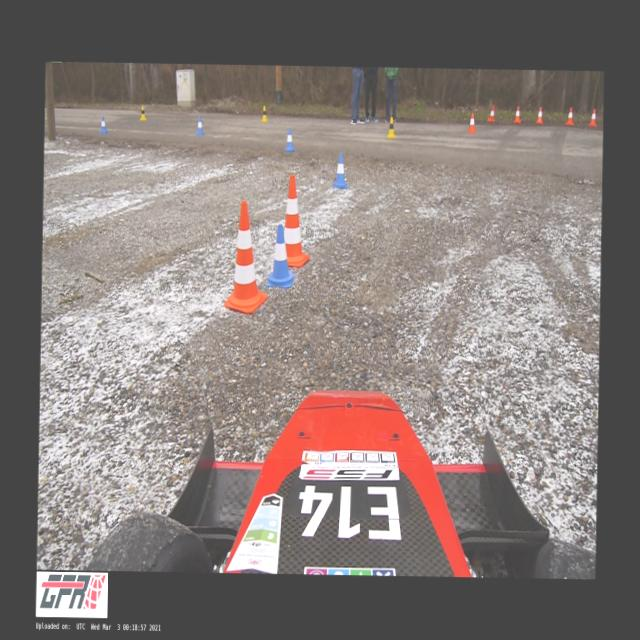blue_cone: (265, 224, 296, 287), (332, 152, 348, 188), (284, 128, 294, 150), (100, 116, 108, 132), (197, 116, 204, 134)
large_orange_cone: (224, 200, 268, 313), (276, 174, 310, 267)
orange_cone: (468, 112, 476, 132), (565, 107, 573, 125), (588, 108, 596, 126), (513, 105, 521, 122), (486, 105, 494, 121), (536, 107, 542, 123)
yellow_cone: (386, 117, 396, 137), (261, 105, 267, 122), (140, 104, 146, 120)
